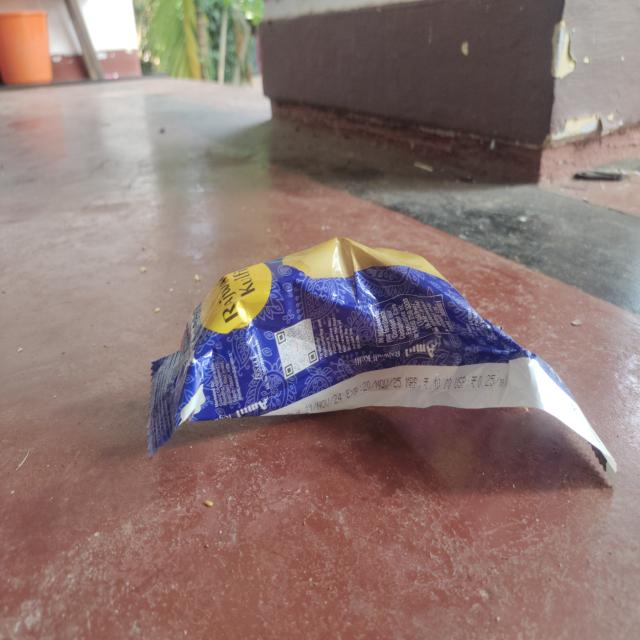plastic: (147, 236, 620, 480)
